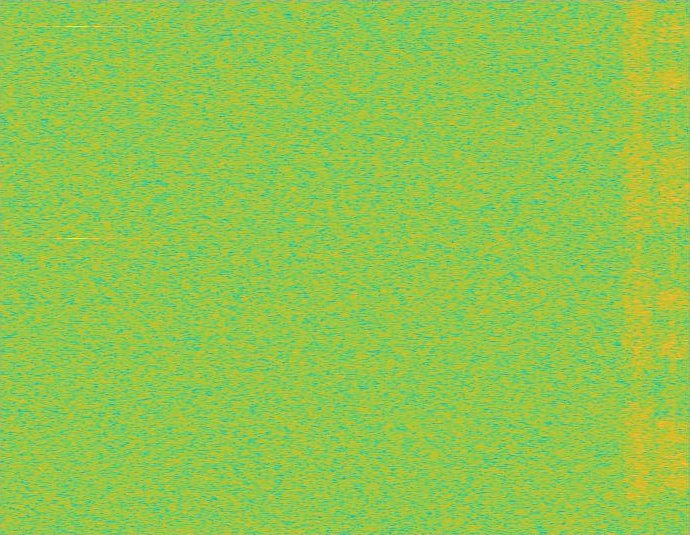5G: (621, 0, 656, 534)
DSSS: (634, 0, 642, 534), (670, 0, 675, 534)
LTE: (656, 0, 689, 534)
Radar: (71, 0, 84, 534)
